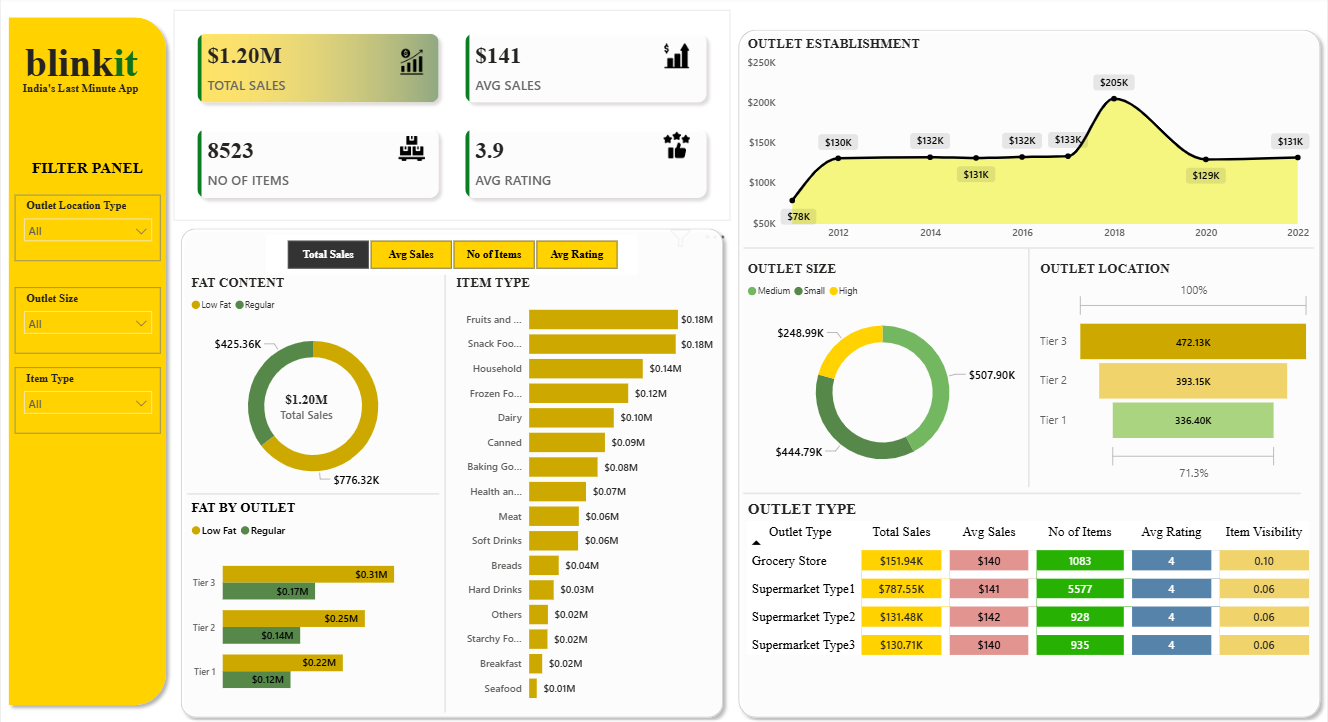

Layout of this report page (visuals, bound fields, positions):
{"tool":"powerbi","page":{"name":"Page 1","canvas":[1600,900],"ordinal":0},"visuals":[{"type":"shape","box":[0,16,208,848],"z":0},{"type":"textbox","box":[16,48,160,96],"z":1000},{"type":"textbox","box":[0,96,192,32],"z":2000},{"type":"cardVisual","fields":{"Data":["BlinkIT Grocery Data.Total Sales","BlinkIT Grocery Data.Avg Sales","BlinkIT Grocery Data.No of Items","BlinkIT Grocery Data.Avg Rating"]},"box":[208,16,672,256],"z":3000},{"type":"image","box":[480,64,32,32],"z":4000},{"type":"image","box":[800,48,32,48],"z":5000},{"type":"image","box":[480,160,32,48],"z":6000},{"type":"image","box":[800,160,32,40],"z":7000},{"type":"shape","box":[208,272,672,608],"z":8000},{"type":"donutChart","title":"FAT CONTENT","fields":{"Y":["BlinkIT Grocery Data.Total Sales"],"Category":["BlinkIT Grocery Data.Item Fat Content"]},"box":[224,336,304,272],"z":9000},{"type":"slicer","title":"FAT CONTENT","fields":{"Values":["Metrics.Metrics"]},"box":[320,288,448,48],"z":10000},{"type":"cardVisual","fields":{"Data":["BlinkIT Grocery Data.Total Sales"]},"box":[304,448,128,96],"z":11000},{"type":"clusteredBarChart","title":"FAT BY OUTLET","fields":{"Y":["BlinkIT Grocery Data.Total Sales"],"Category":["BlinkIT Grocery Data.Outlet Location Type"],"Series":["BlinkIT Grocery Data.Item Fat Content"]},"box":[224,608,304,256],"z":12000},{"type":"shape","box":[224,592,304,16],"z":13000},{"type":"shape","box":[528,336,16,528],"z":14000},{"type":"barChart","title":"ITEM TYPE","fields":{"Y":["BlinkIT Grocery Data.Total Sales"],"Category":["BlinkIT Grocery Data.Item Type"]},"box":[544,336,320,528],"z":15000},{"type":"shape","box":[880,32,720,848],"z":16000},{"type":"lineChart","title":"OUTLET ESTABLISHMENT","fields":{"Y":["BlinkIT Grocery Data.Total Sales"],"Category":["BlinkIT Grocery Data.Outlet Establishment Year"]},"box":[896,48,688,256],"z":17000},{"type":"shape","box":[896,288,688,32],"z":18000},{"type":"donutChart","title":"OUTLET SIZE","fields":{"Y":["BlinkIT Grocery Data.Total Sales"],"Category":["BlinkIT Grocery Data.Outlet Size"]},"box":[896,320,336,272],"z":19000},{"type":"shape","box":[1232,304,16,288],"z":20000},{"type":"funnel","title":"OUTLET LOCATION","fields":{"Category":["BlinkIT Grocery Data.Outlet Location Type"],"Y":["Sum(BlinkIT Grocery Data.Sales)"]},"box":[1248,320,336,272],"z":21000},{"type":"shape","box":[896,576,672,48],"z":22000},{"type":"pivotTable","title":"OUTLET TYPE","fields":{"Rows":["BlinkIT Grocery Data.Outlet Type"],"Values":["BlinkIT Grocery Data.Total Sales","BlinkIT Grocery Data.Avg Sales","BlinkIT Grocery Data.No of Items","BlinkIT Grocery Data.Avg Rating","Avg(BlinkIT Grocery Data.Item Visibility)"]},"box":[896,608,688,240],"z":23000},{"type":"slicer","fields":{"Values":["BlinkIT Grocery Data.Outlet Location Type"]},"box":[16,240,176,80],"z":24000},{"type":"slicer","fields":{"Values":["BlinkIT Grocery Data.Outlet Size"]},"box":[16,352,176,80],"z":25000},{"type":"slicer","fields":{"Values":["BlinkIT Grocery Data.Item Type"]},"box":[16,448,176,80],"z":26000},{"type":"textbox","box":[16,192,176,48],"z":26001}]}

Visuals, with their boxes on the page's 1600x900 design canvas (x1, y1, x2, y2). These are canvas units, not pixel positions in the 1328x722 screenshot, which may show the page scaled, cropped or inside an application window:
shape: pyautogui.locateOnScreen(0, 16, 208, 864)
textbox: pyautogui.locateOnScreen(16, 48, 176, 144)
textbox: pyautogui.locateOnScreen(0, 96, 192, 128)
cardVisual - BlinkIT Grocery Data.Total Sales x BlinkIT Grocery Data.Avg Sales: pyautogui.locateOnScreen(208, 16, 880, 272)
image: pyautogui.locateOnScreen(480, 64, 512, 96)
image: pyautogui.locateOnScreen(800, 48, 832, 96)
image: pyautogui.locateOnScreen(480, 160, 512, 208)
image: pyautogui.locateOnScreen(800, 160, 832, 200)
shape: pyautogui.locateOnScreen(208, 272, 880, 880)
"FAT CONTENT" donutChart: pyautogui.locateOnScreen(224, 336, 528, 608)
"FAT CONTENT" slicer: pyautogui.locateOnScreen(320, 288, 768, 336)
cardVisual - BlinkIT Grocery Data.Total Sales: pyautogui.locateOnScreen(304, 448, 432, 544)
"FAT BY OUTLET" clusteredBarChart: pyautogui.locateOnScreen(224, 608, 528, 864)
shape: pyautogui.locateOnScreen(224, 592, 528, 608)
shape: pyautogui.locateOnScreen(528, 336, 544, 864)
"ITEM TYPE" barChart: pyautogui.locateOnScreen(544, 336, 864, 864)
shape: pyautogui.locateOnScreen(880, 32, 1600, 880)
"OUTLET ESTABLISHMENT" lineChart: pyautogui.locateOnScreen(896, 48, 1584, 304)
shape: pyautogui.locateOnScreen(896, 288, 1584, 320)
"OUTLET SIZE" donutChart: pyautogui.locateOnScreen(896, 320, 1232, 592)
shape: pyautogui.locateOnScreen(1232, 304, 1248, 592)
"OUTLET LOCATION" funnel: pyautogui.locateOnScreen(1248, 320, 1584, 592)
shape: pyautogui.locateOnScreen(896, 576, 1568, 624)
"OUTLET TYPE" pivotTable: pyautogui.locateOnScreen(896, 608, 1584, 848)
slicer - BlinkIT Grocery Data.Outlet Location Type: pyautogui.locateOnScreen(16, 240, 192, 320)
slicer - BlinkIT Grocery Data.Outlet Size: pyautogui.locateOnScreen(16, 352, 192, 432)
slicer - BlinkIT Grocery Data.Item Type: pyautogui.locateOnScreen(16, 448, 192, 528)
textbox: pyautogui.locateOnScreen(16, 192, 192, 240)
